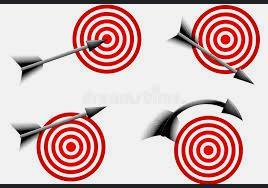target_red: (35, 111, 106, 181), (190, 4, 260, 74), (173, 113, 243, 183), (71, 4, 142, 73)
